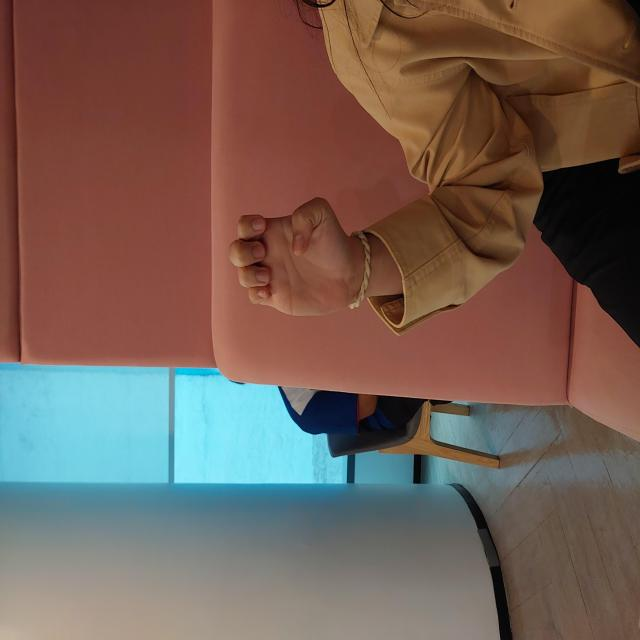E: (319, 223, 451, 366)
